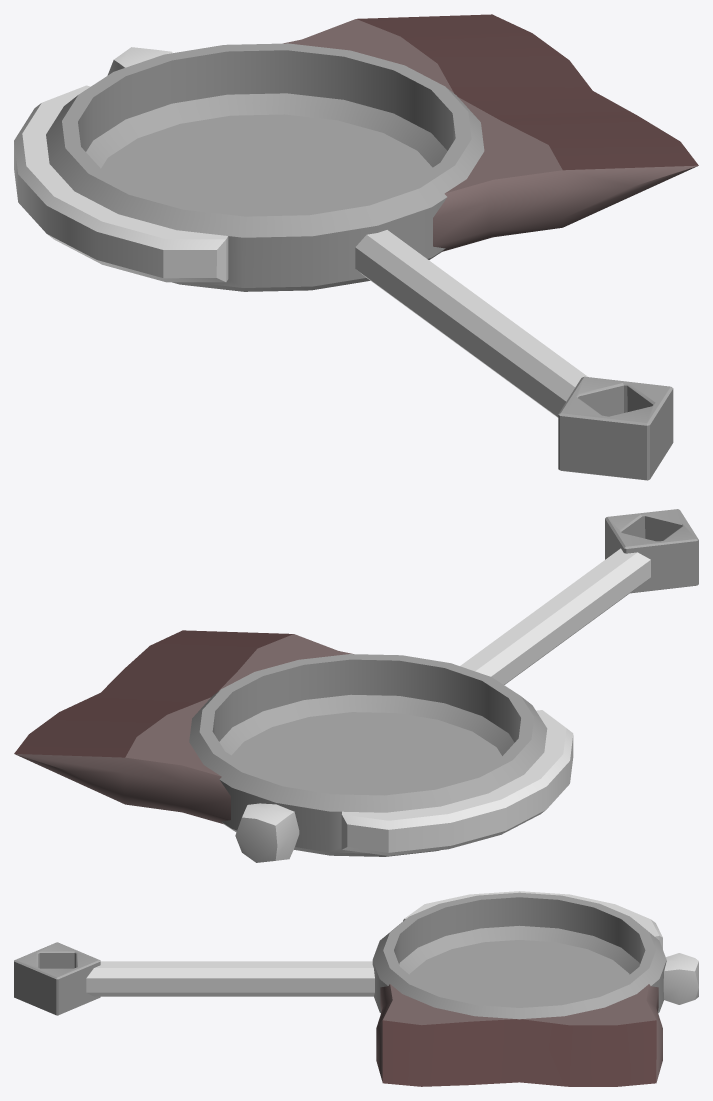
Rendered from DyingPan.fbx.
3 views of the same model, one above another, from view 1: azimuth 30°, elevation 25°; view 2: azimuth 150°, elevation 25°; view 3: azimuth 270°, elevation 25° (orthographic). The views are drawn at different scales.
Parts seen in each view (by area): view 1: DyingPan; view 2: DyingPan; view 3: DyingPan.
Part boxes in pixels (x1,y1,x2,y2): DyingPan: [14, 14, 698, 480]; DyingPan: [14, 509, 698, 862]; DyingPan: [14, 891, 698, 1086].
Size of the model in its own units: 1.02 by 0.125 by 1.63.
